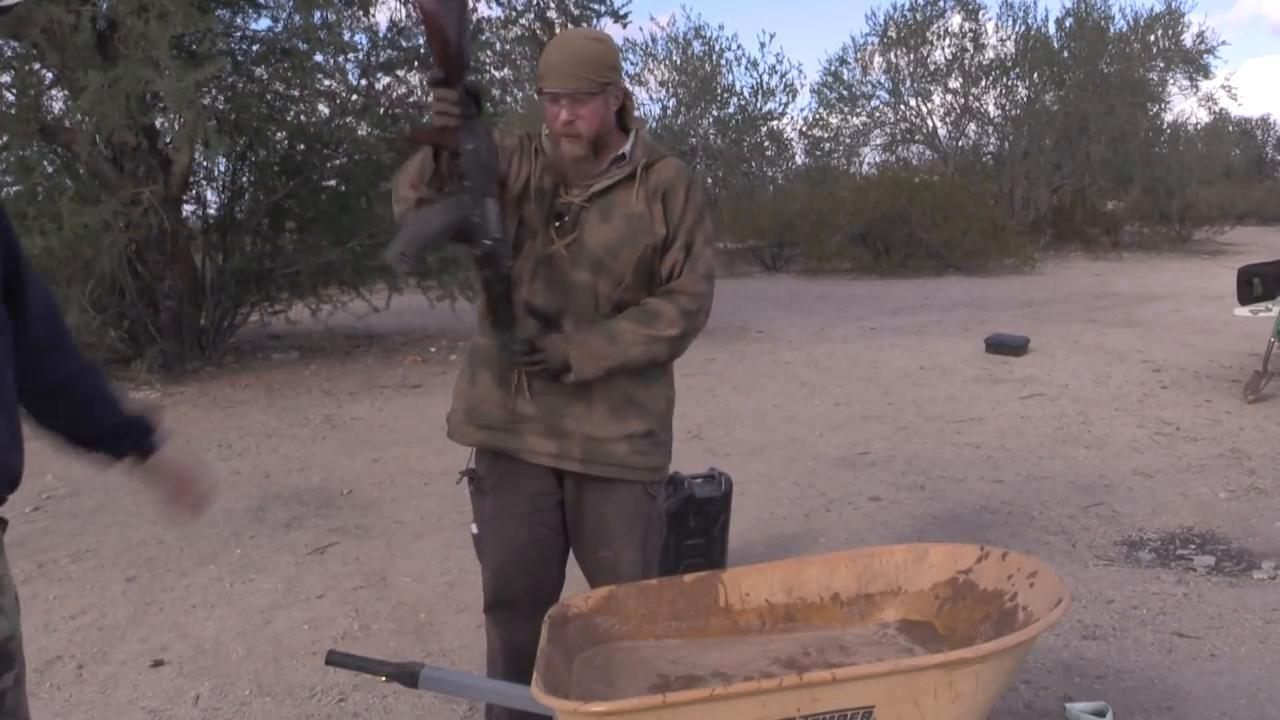AK47 Rifle: (391, 2, 524, 405)
